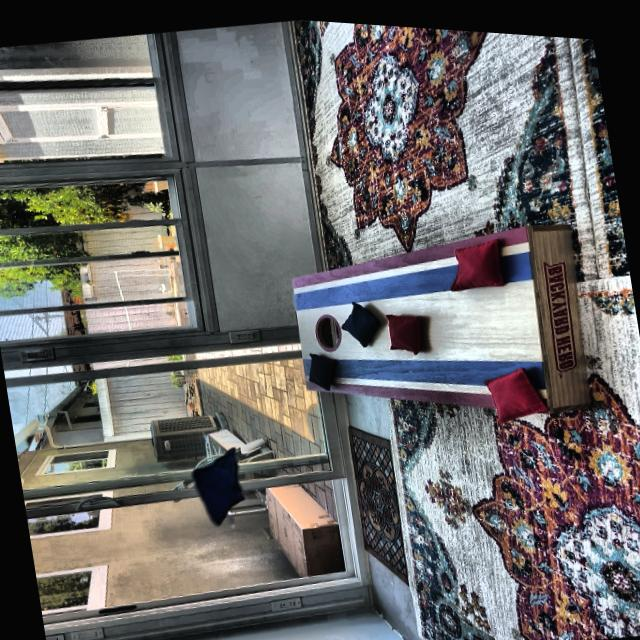blue-bean-bag: (187, 440, 249, 527), (336, 292, 384, 346), (303, 344, 339, 388)
board: (290, 231, 548, 405)
hole: (310, 306, 345, 348)
red-bean-bag: (480, 354, 550, 421), (444, 228, 507, 288), (384, 303, 426, 352)
